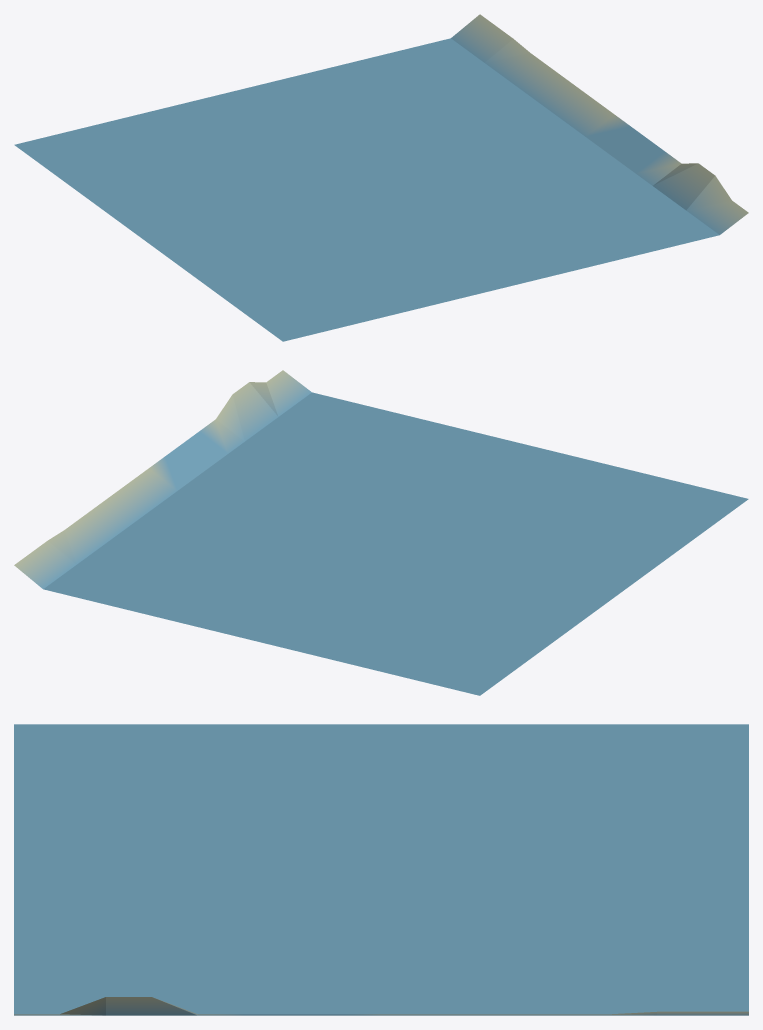
3 views of the same model, one above another, from view 1: azimuth 30°, elevation 25°; view 2: azimuth 150°, elevation 25°; view 3: azimuth 270°, elevation 25° (orthographic). The views are drawn at different scales.
Bounding box in the file's own units: 32 × 1.83 × 32.
